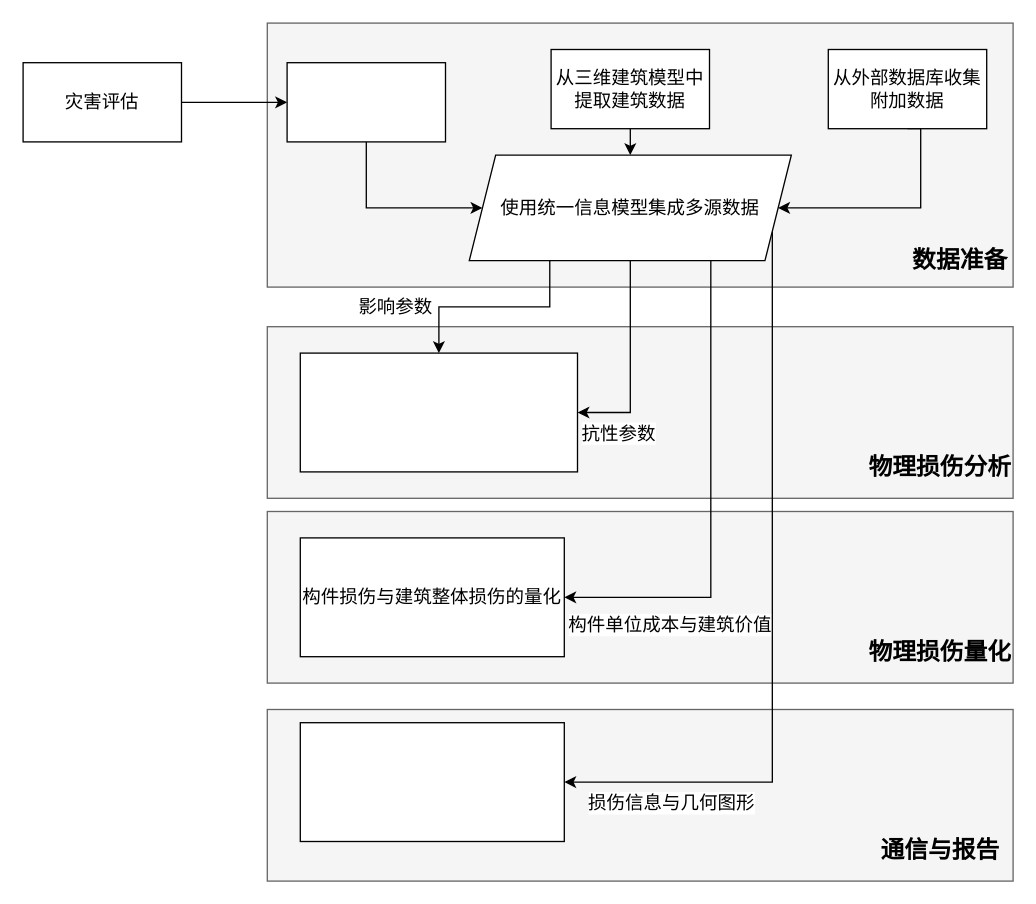
This 1036x904 diagram has some shape labels left out. The shapes that lost their labels are listed below. From the top down, each one's centre as x and y in pixels, then its label:
At pixel 366 101: "提取洪水参数".
At pixel 438 412: "物理损伤评估：针对洪水作用的构件响应建模".
At pixel 431 781: "损伤的三维可视化与报告".
